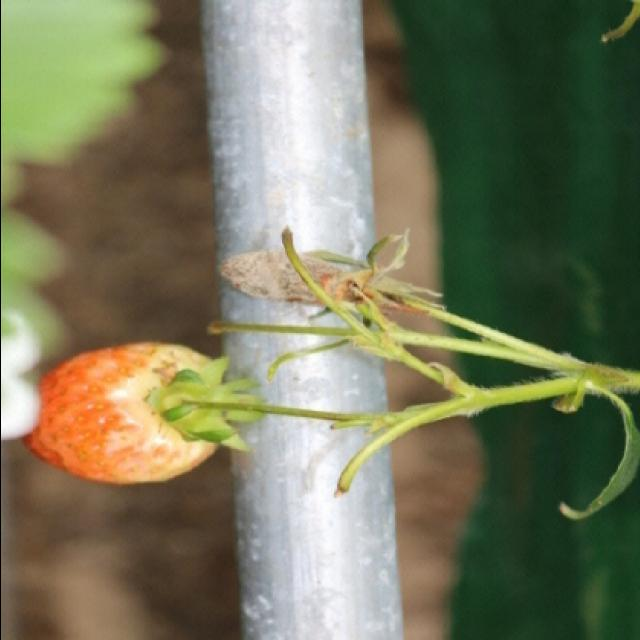Gray Mold: (221, 252, 423, 314)
